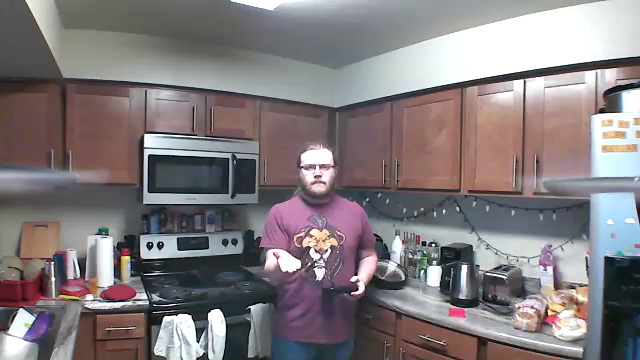land: (268, 248, 304, 274)
